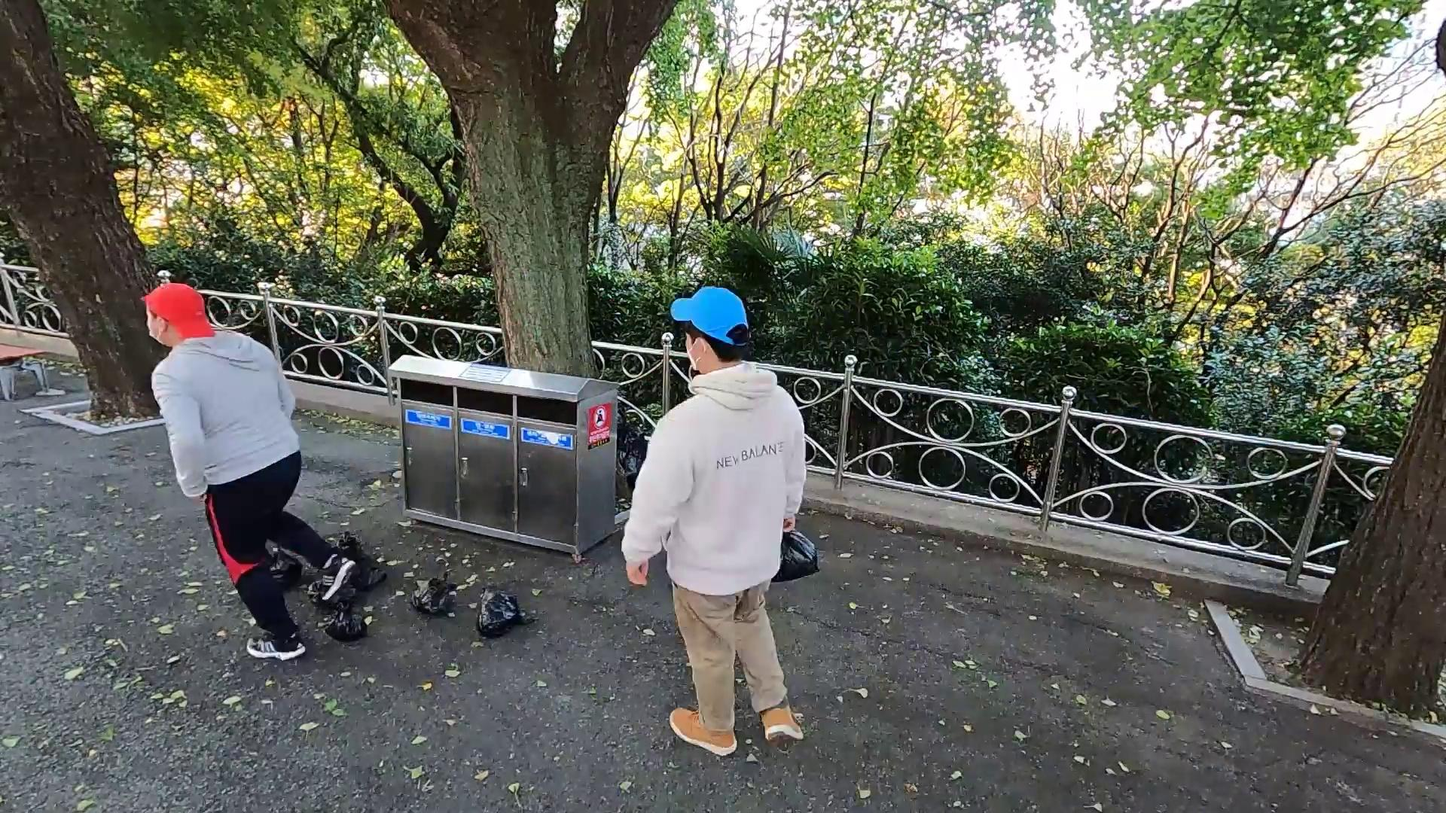person: (624, 284, 822, 755), (135, 269, 354, 668)
trash: (315, 532, 390, 598), (468, 578, 538, 644), (767, 523, 824, 589), (312, 602, 375, 644), (410, 573, 456, 625), (256, 544, 307, 590)
